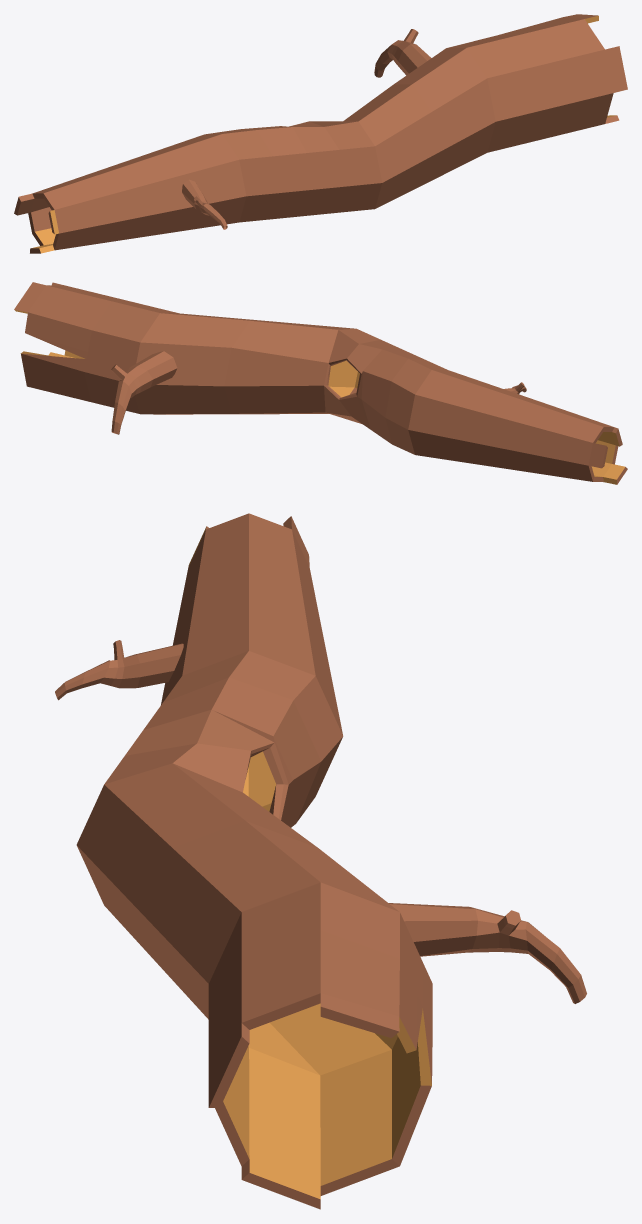
The model's file is log.fbx.
The picture shows the model from 3 angles, top to bottom: view 1: azimuth 30°, elevation 25°; view 2: azimuth 150°, elevation 25°; view 3: azimuth 270°, elevation 25°; orthographic projection. The views are drawn at different scales.
Visible parts, largest first — view 1: Circle, Circle.001; view 2: Circle, Circle.001; view 3: Circle, Circle.001.
Part boxes in pixels (x1=…): Circle: x1=14, y1=14, x2=627, y2=253; Circle.001: x1=182, y1=29, x2=431, y2=229; Circle: x1=14, y1=282, x2=627, y2=484; Circle.001: x1=111, y1=351, x2=526, y2=434; Circle: x1=76, y1=513, x2=432, y2=1209; Circle.001: x1=55, y1=640, x2=586, y2=1003.
Size of the model in its own units: 1177 by 202 by 479.
